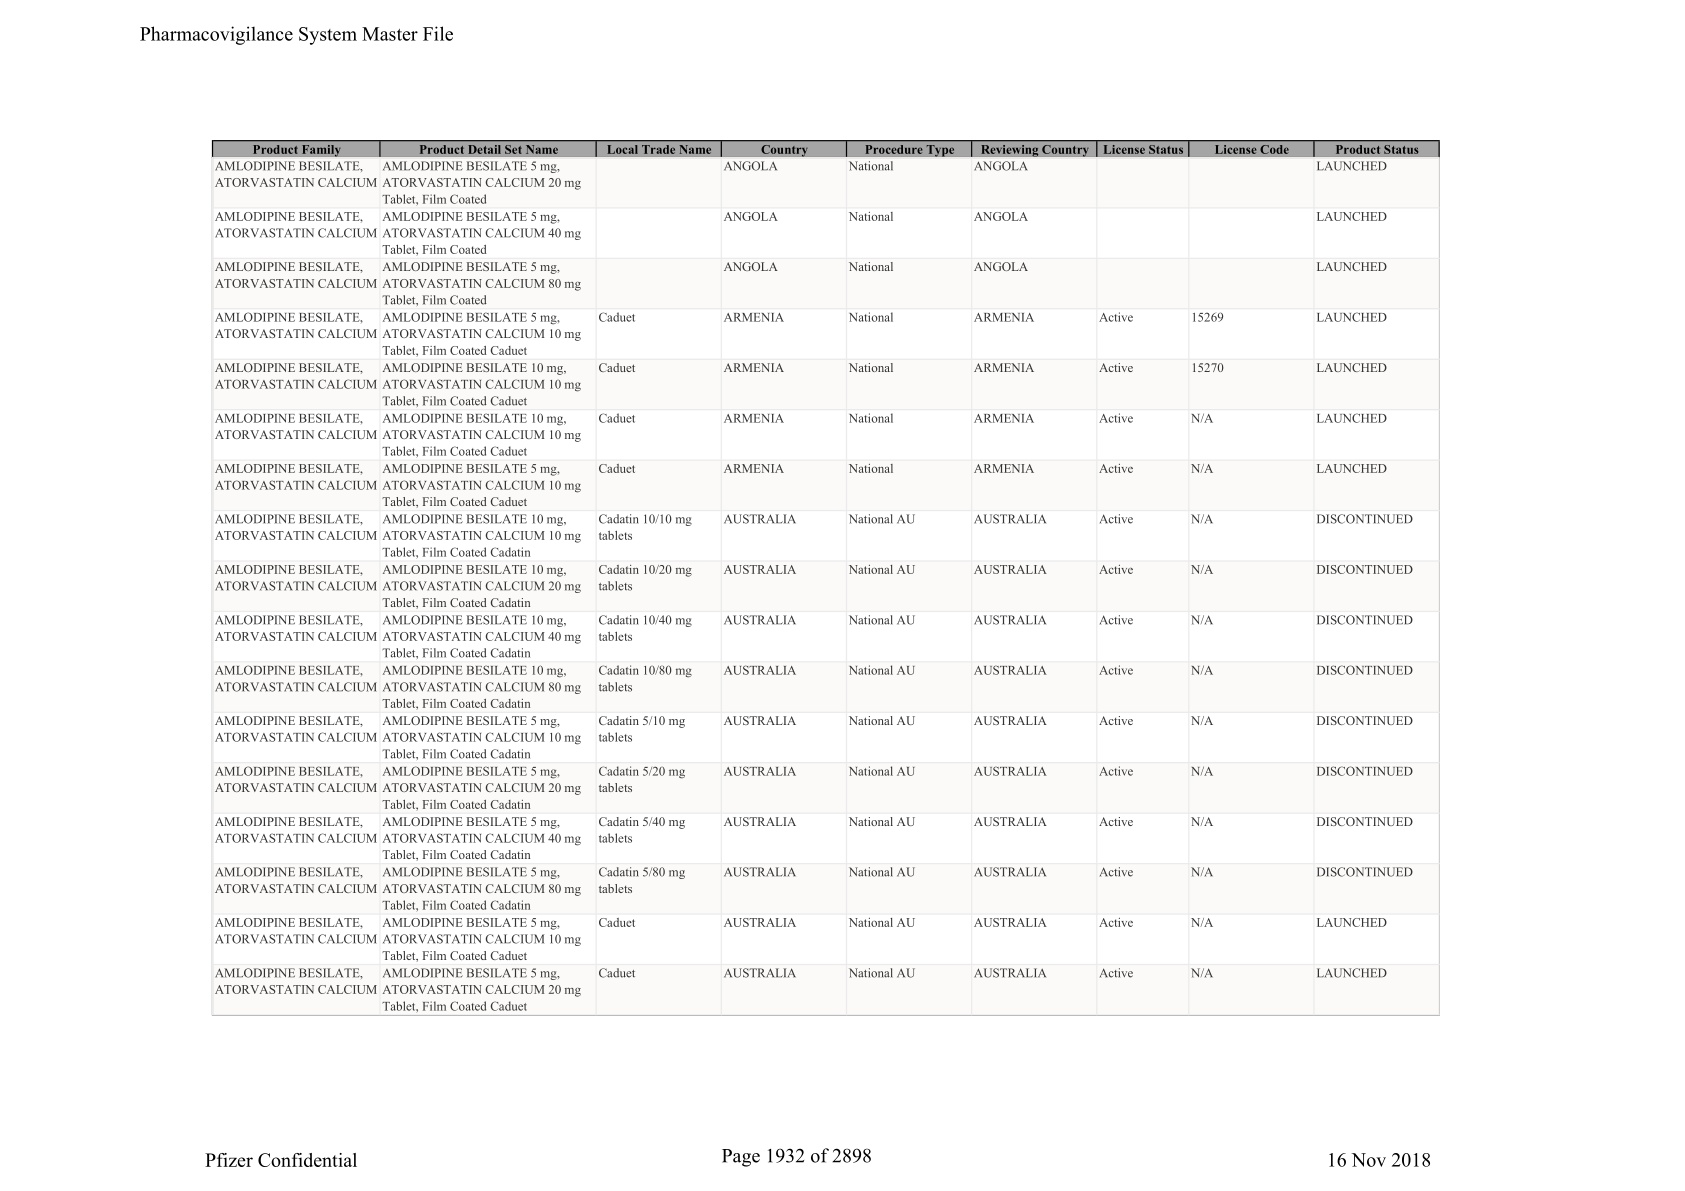full_lined: (211, 140, 1440, 1017)
